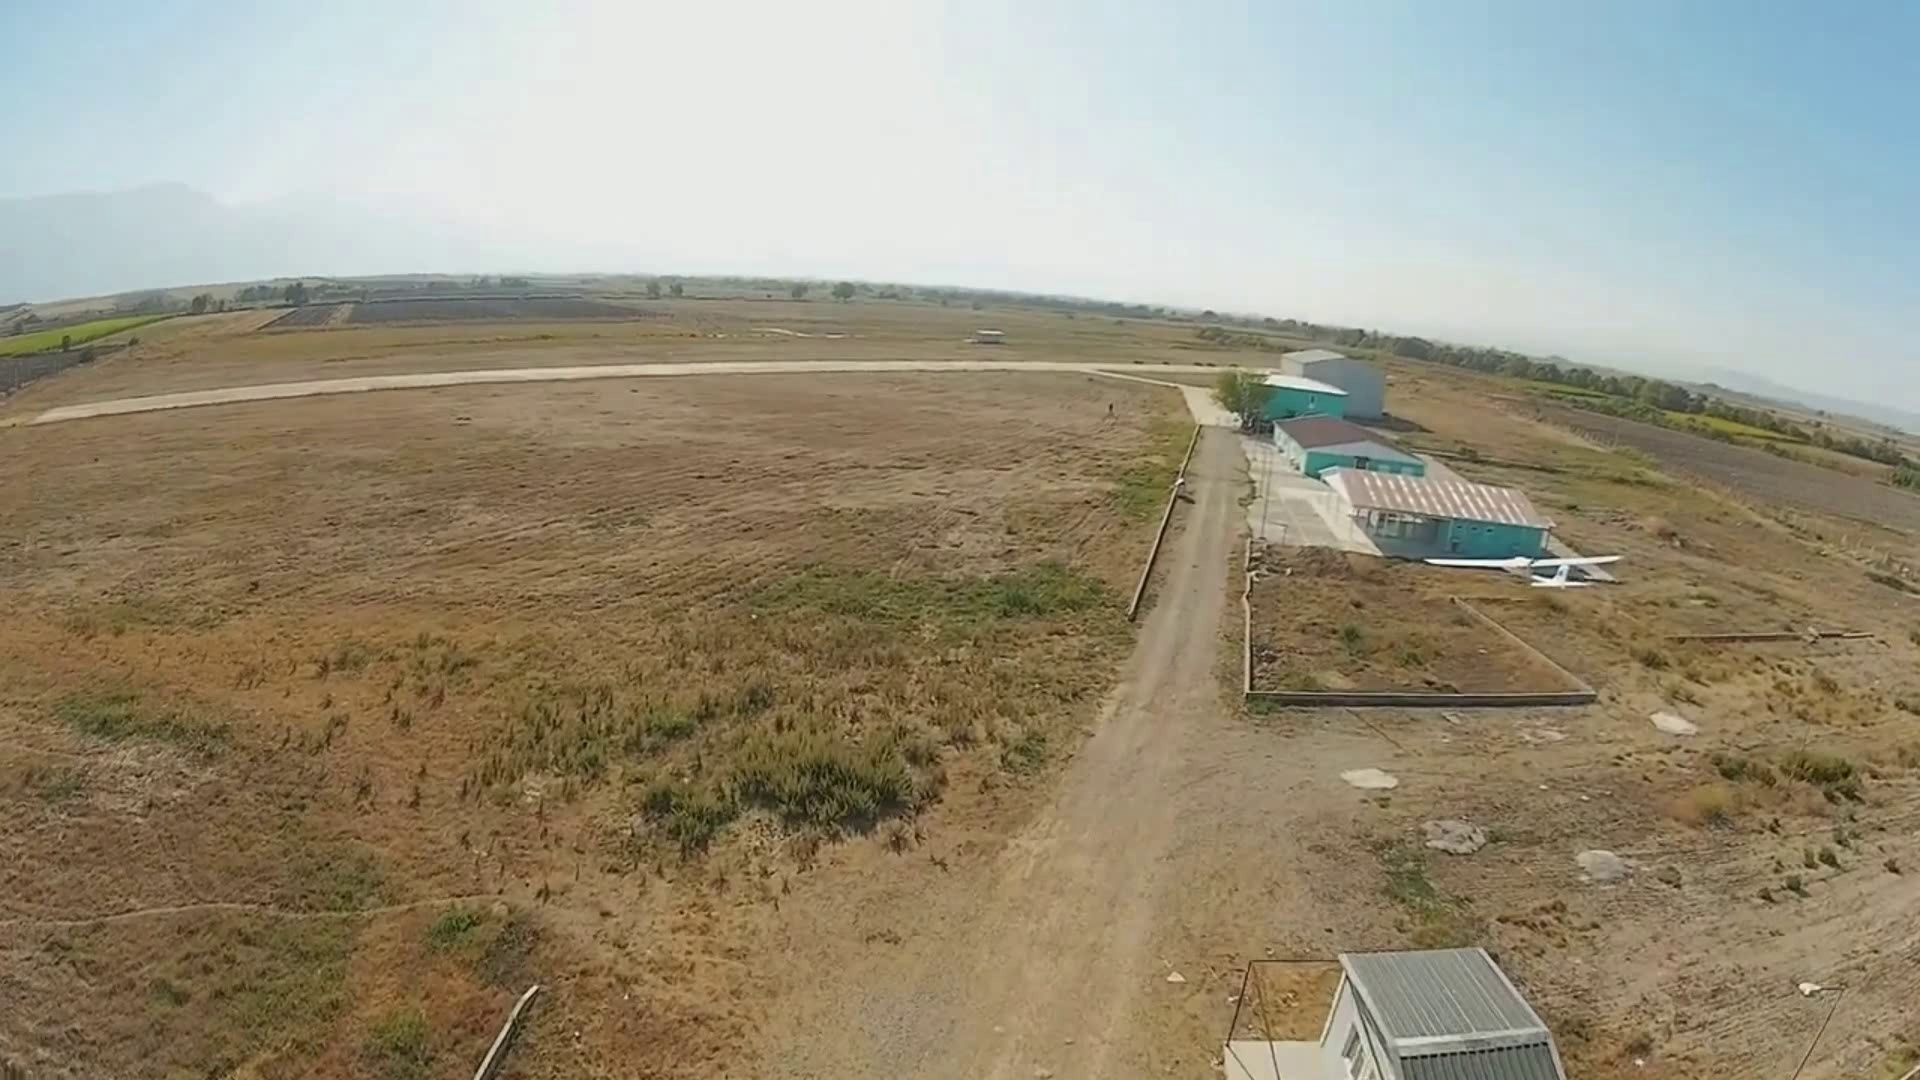airplane: (1226, 363, 1621, 585), (1303, 447, 1622, 583)
